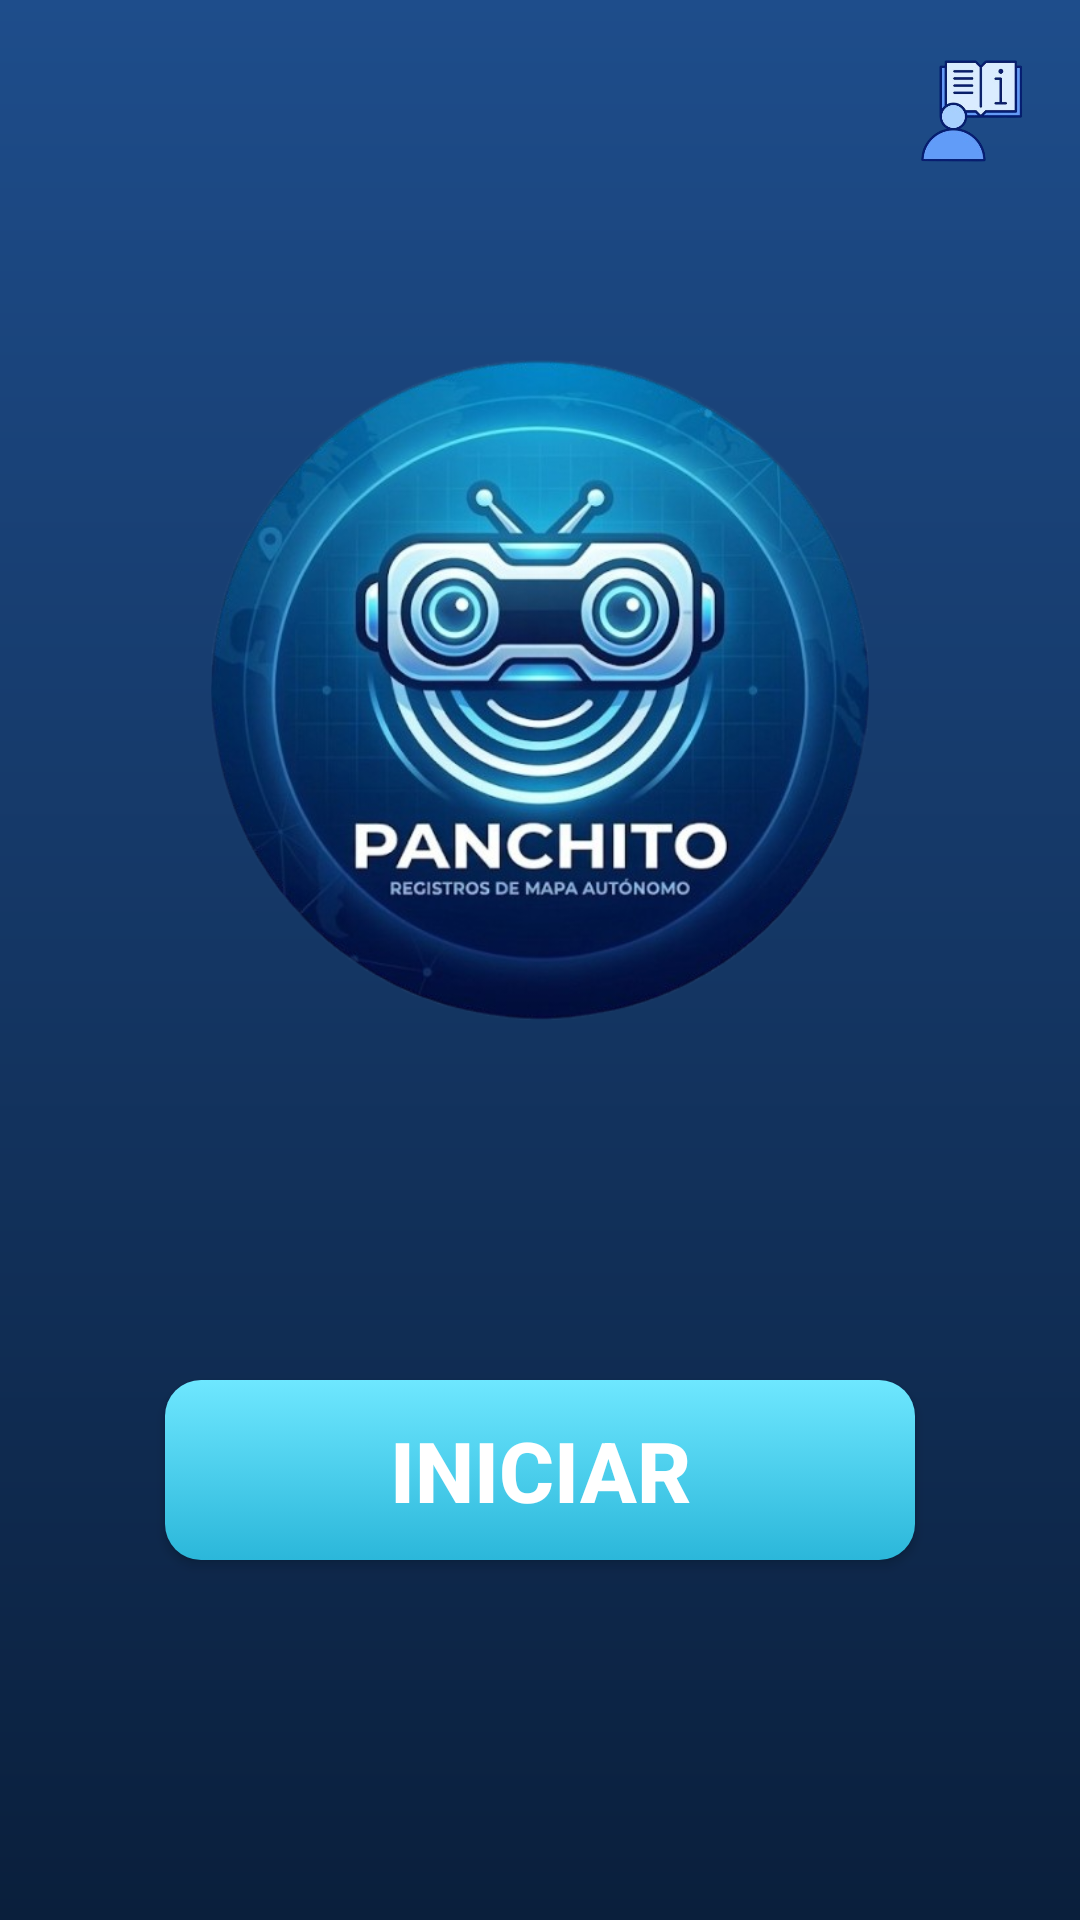

Locate icon controls on the screen. Image size 1080x1920, boxes as (x1, y1, x2, y2).
Tutorial: (921, 61, 1022, 161)
